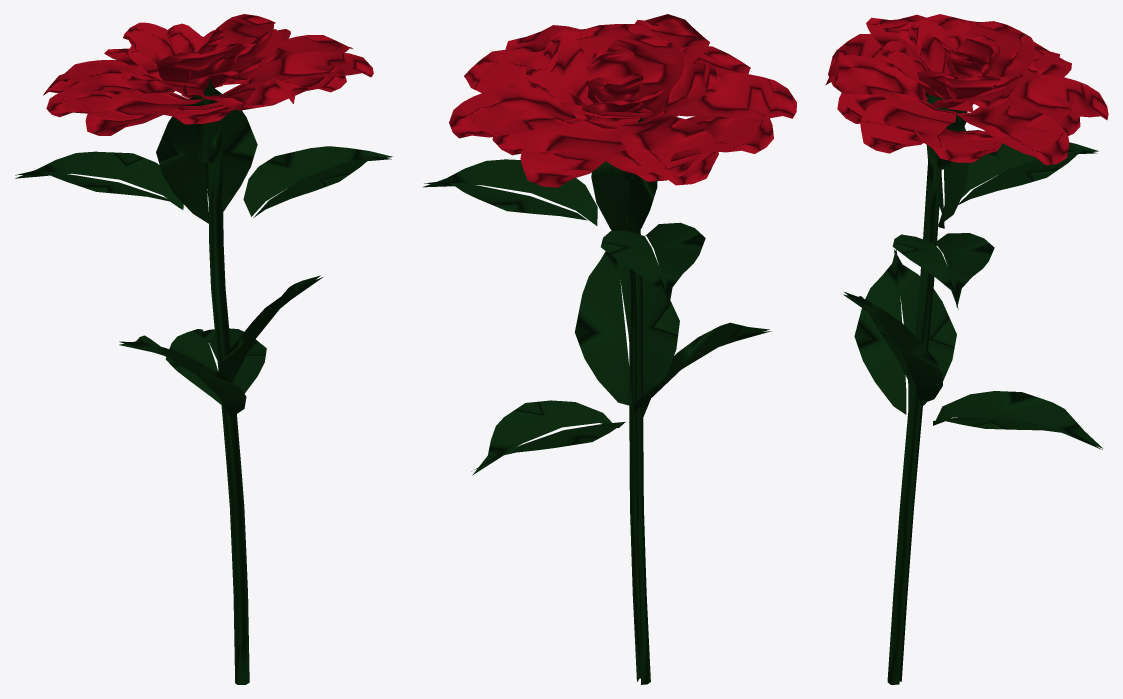
Rendered from blumee1.FBX.
3 views of the same model, side by side, from view 1: azimuth 30°, elevation 25°; view 2: azimuth 150°, elevation 25°; view 3: azimuth 270°, elevation 25° (orthographic). The views are drawn at different scales.
Parts seen in each view (by area): view 1: STEM; view 2: STEM; view 3: STEM.
Boxes of the visible parts, x1=… form: STEM: x1=15, y1=14, x2=392, y2=684; STEM: x1=423, y1=14, x2=796, y2=684; STEM: x1=825, y1=14, x2=1108, y2=684.
Size of the model in its own units: 739 by 1332 by 533.
